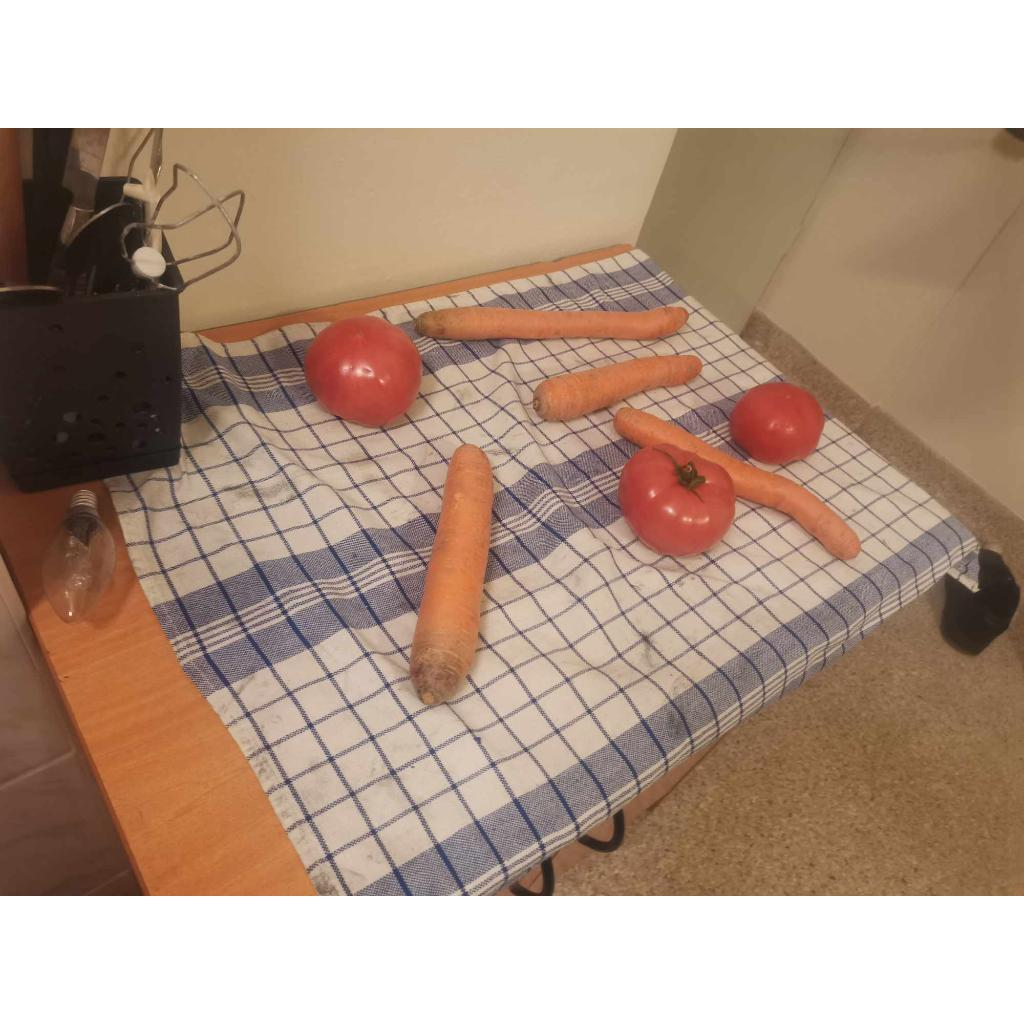carrot: (614, 408, 860, 560), (410, 444, 494, 704), (534, 356, 702, 420), (416, 306, 688, 340)
tomato: (618, 444, 736, 556), (304, 316, 422, 426), (730, 382, 824, 464)
